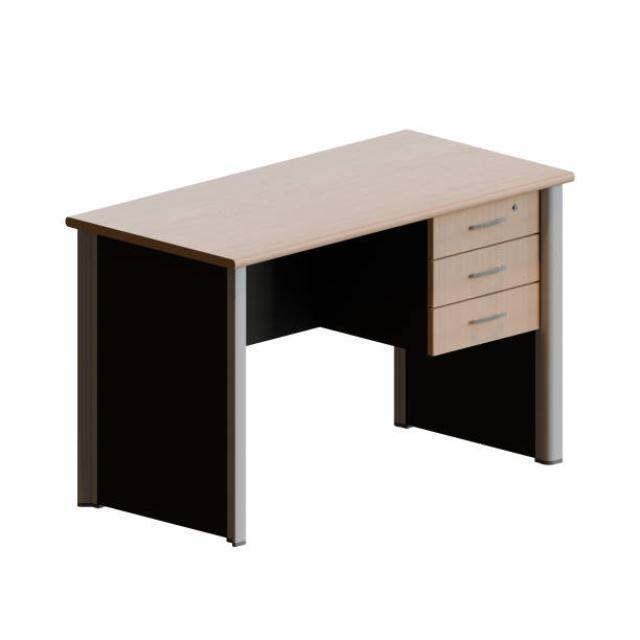table: (64, 126, 574, 547)
